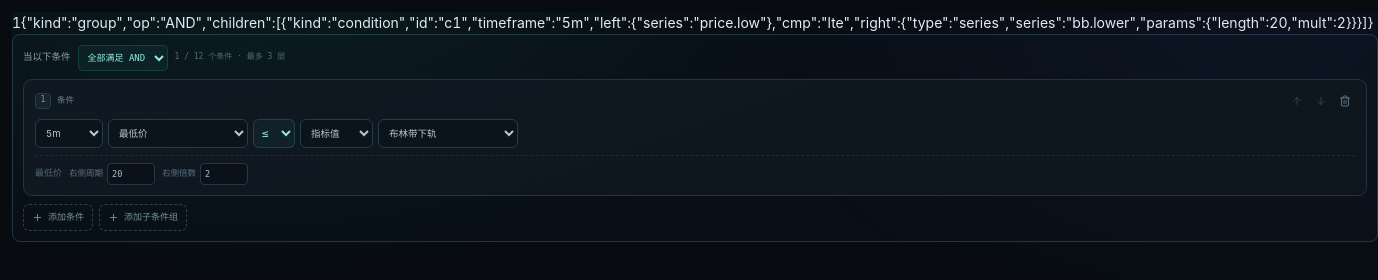
Test: RuleBuilder › selects the midline-turn signal with a >= 1 default and exposes its parameters
Select "中线见顶预警" in the dropdown named "条件 1 指标": (178, 133) [108, 119, 248, 148]
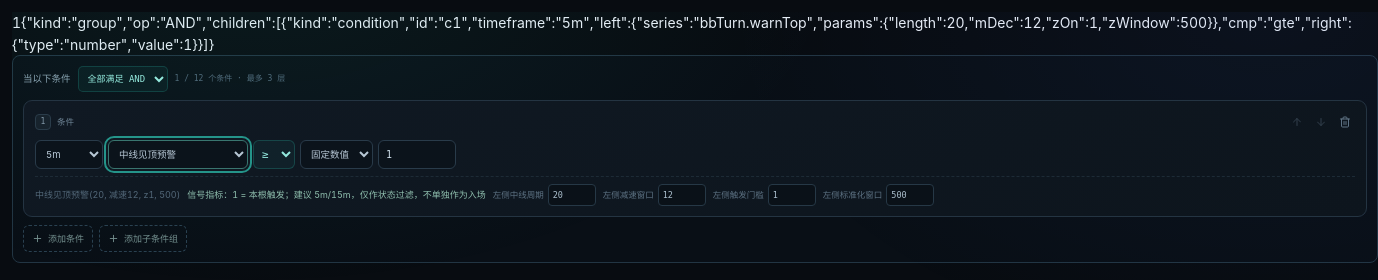
Check: the dropdown named "条件 1 比较符" shows "≥", box [253, 140, 295, 169]
Check: the dropdown named "条件 1 右侧类型" shows "固定数值", box [300, 140, 373, 169]
Check: the field named "条件 1 阈值" holds "1", box [378, 140, 456, 169]
